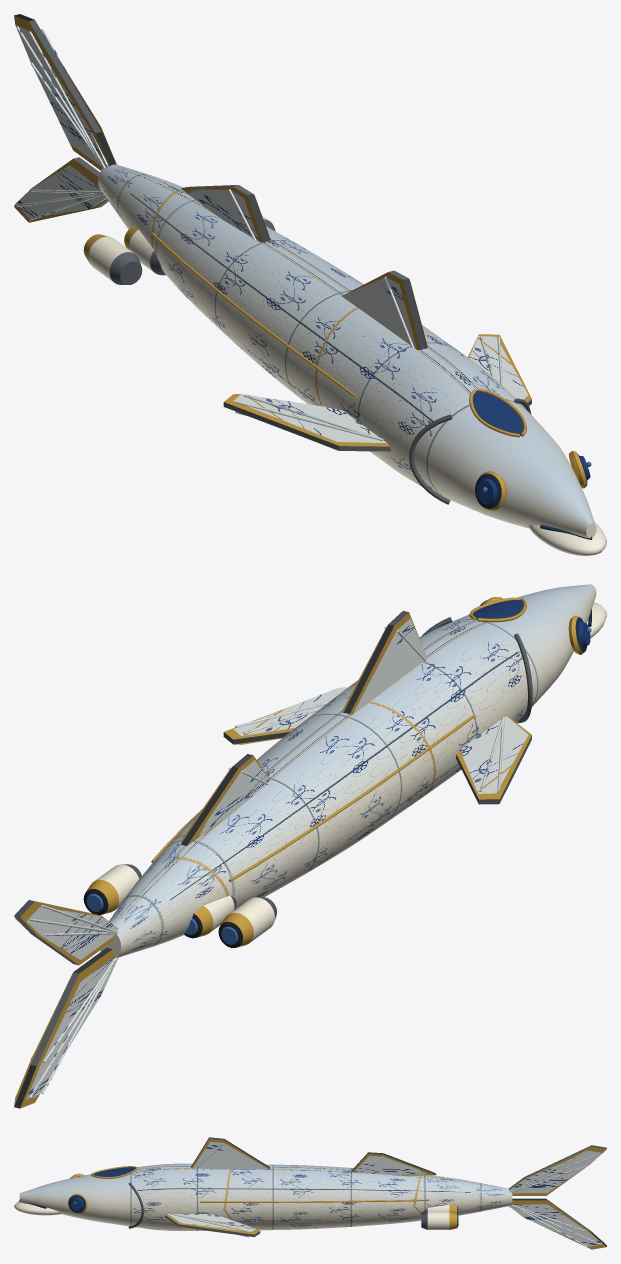
3 views of the same model, one above another, from view 1: azimuth 30°, elevation 25°; view 2: azimuth 150°, elevation 25°; view 3: azimuth 270°, elevation 25° (orthographic). The views are drawn at different scales.
Parts seen in each view (by area): view 1: barracuda_hull; view 2: barracuda_hull; view 3: barracuda_hull.
Boxes of the visible parts, x1,y1,x2,y2 form: barracuda_hull: (14, 14, 606, 555); barracuda_hull: (14, 584, 606, 1108); barracuda_hull: (14, 1137, 606, 1249).
Bounding box in the file's own units: 10.99 × 8.25 × 40.
Materials: 1 (1 with a texture image).
